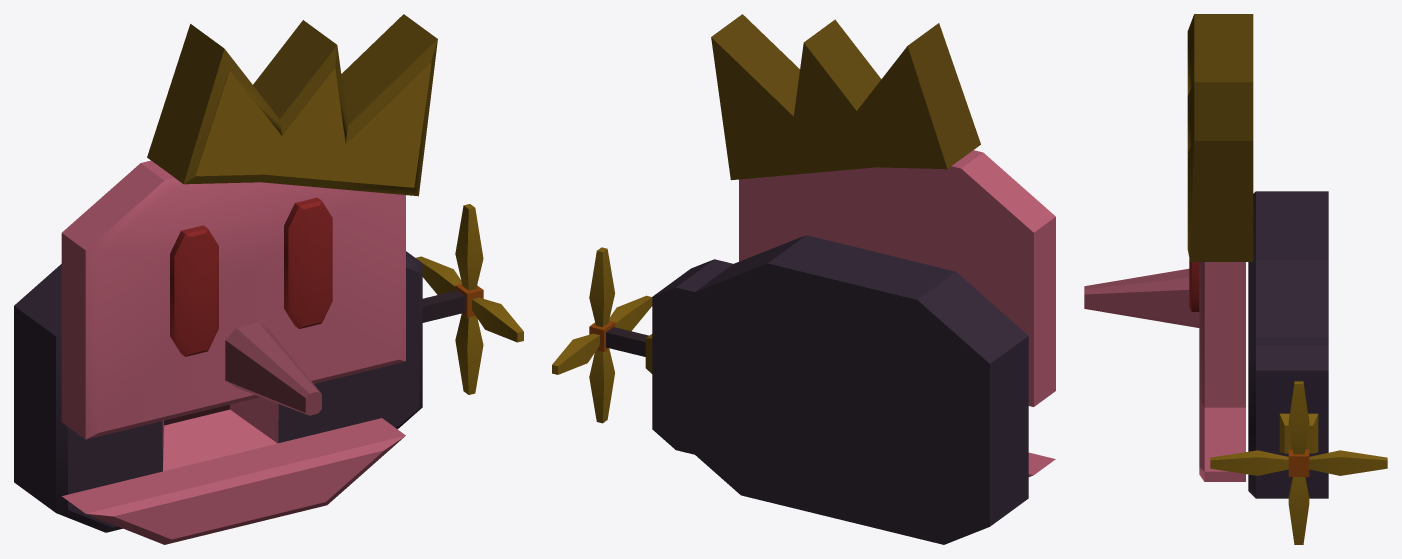
The model's file is prince_airship.fbx.
The picture shows the model from 3 angles, left to right: view 1: azimuth 30°, elevation 25°; view 2: azimuth 150°, elevation 25°; view 3: azimuth 270°, elevation 25°; orthographic projection. The views are drawn at different scales.
Visible parts, largest first — view 1: prince_airship_mesh, prince_airship_propeller_mesh; view 2: prince_airship_mesh, prince_airship_propeller_mesh; view 3: prince_airship_mesh, prince_airship_propeller_mesh.
Boxes of the visible parts, x1,y1,x2,y2 form: prince_airship_mesh: (14, 14, 437, 544); prince_airship_propeller_mesh: (416, 204, 523, 394); prince_airship_mesh: (645, 14, 1055, 544); prince_airship_propeller_mesh: (552, 247, 652, 423); prince_airship_mesh: (1084, 14, 1328, 498); prince_airship_propeller_mesh: (1210, 381, 1387, 544).
Bounding box in the file's own units: 8.33 × 8.74 × 5.67.
